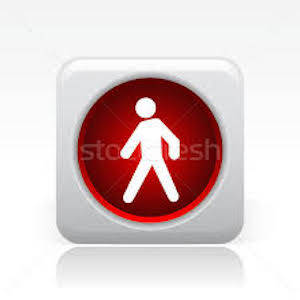red: (122, 93, 190, 206)
